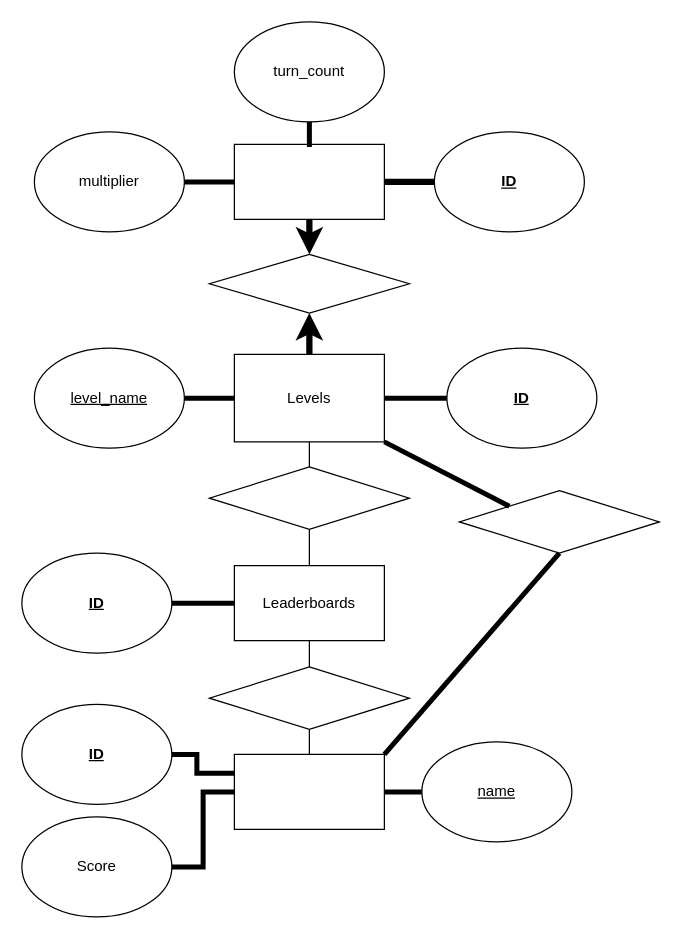
Some shapes in this 681 by 939 pixel diagram are drawn without their labels. Each missing label, with the centre of its shape:
chooses: pixel 558 521
Difficulty: pixel 308 181
has: pixel 308 283
Players: pixel 308 791
show: pixel 308 697
shows: pixel 308 497
